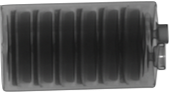9V: (1, 0, 168, 92)
